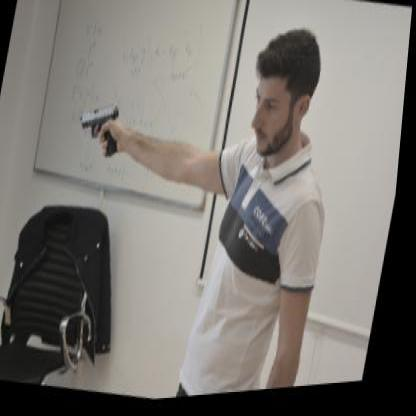pistol: (76, 93, 129, 161)
